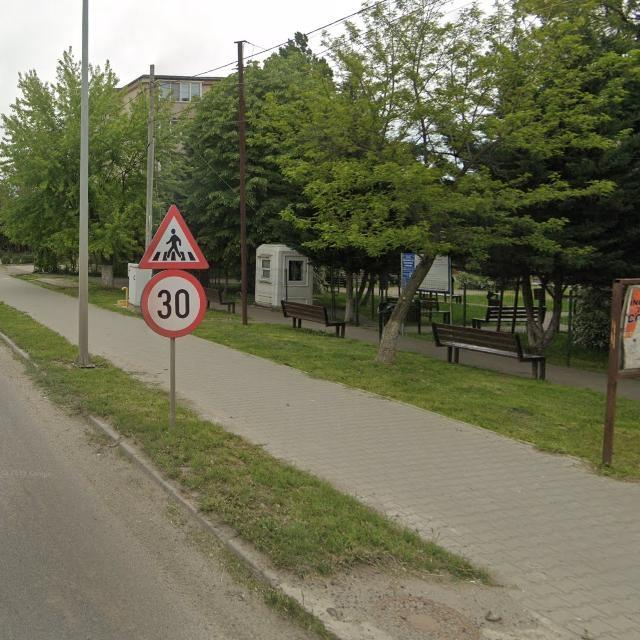forb_speed_over_30: (140, 269, 207, 337)
warn_crosswalk: (140, 205, 208, 273)
